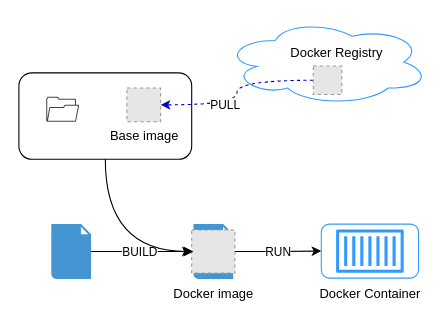
The diagram is 448 pixels wide and 324 high, and some of its shapes have lost their labels. Grey dashed boxes stand in for pictures. Each missing label, with the centre of its shape:
Dockerfile: (71,251)
Source code: (62,108)
